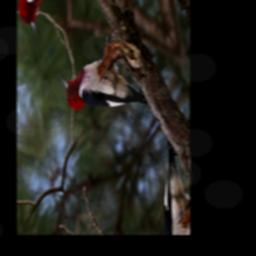Woodpecker: (55, 11, 152, 177)
